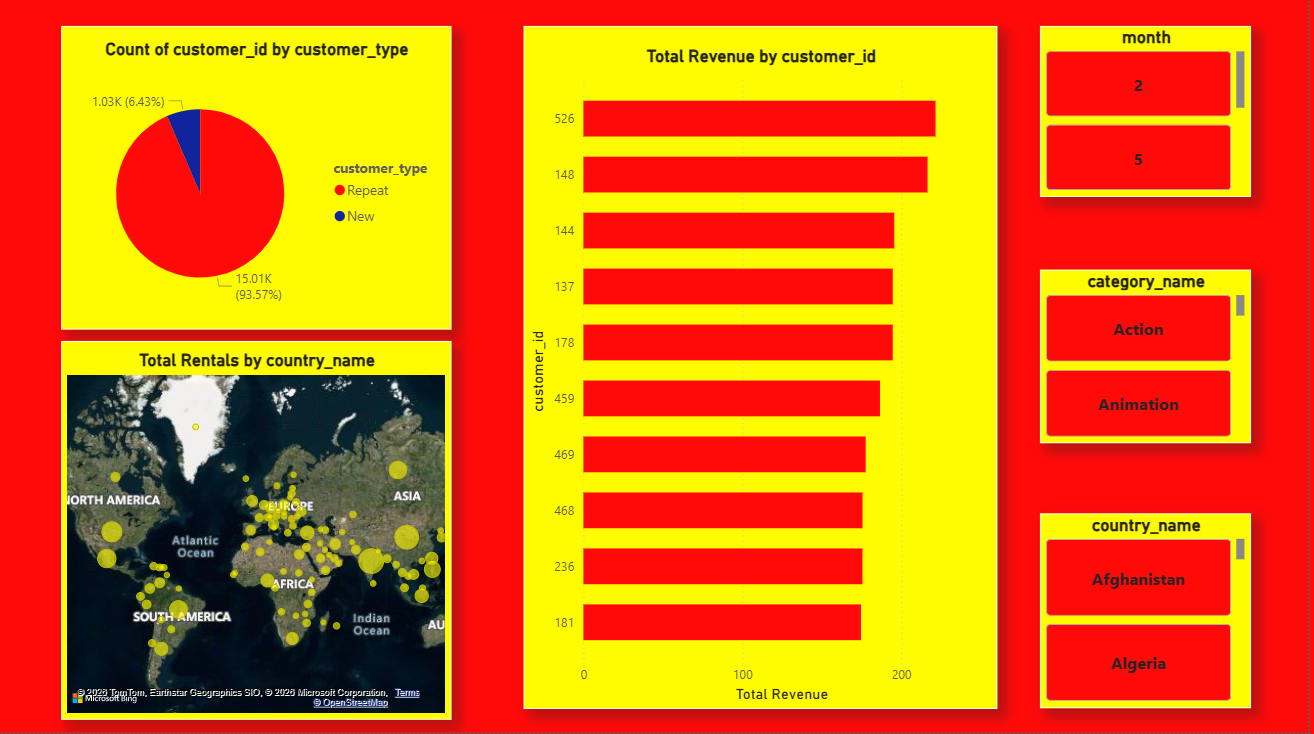

This screenshot's page, from the dashboard's own definition file:
{"tool":"powerbi","page":{"name":"Customer Analysis","canvas":[1280,720],"ordinal":2},"visuals":[{"type":"pieChart","fields":{"Category":["rental.customer_type"],"Y":["CountNonNull(rental.customer_id)"]},"box":[59.9,29.3,381.5,297.1],"z":0},{"type":"barChart","fields":{"Y":["rental.Total Revenue"],"Category":["rental.customer_id"]},"box":[512.4,29.3,463.5,667.7],"z":1000},{"type":"advancedSlicerVisual","fields":{"Values":["rental.month"]},"box":[1017.4,29.3,206.7,167.5],"z":3000},{"type":"advancedSlicerVisual","fields":{"Values":["rental.category_name"]},"box":[1017.4,267.8,206.7,170],"z":4000},{"type":"advancedSlicerVisual","fields":{"Values":["rental.country_name"]},"box":[1017.4,506.3,206.7,190.8],"z":5000},{"type":"map","fields":{"Category":["rental.country_name"],"Size":["rental.Total Rentals"]},"box":[59.9,337.5,381.5,370.5],"z":5001}]}

Visuals, with their boxes in screenshot pixels (x1, y1, x2, y2), scaled from the page's 1280x720 canvas onto the 1314x734 screenshot:
pieChart - rental.customer_type x CountNonNull(rental.customer_id): <bbox>61, 30, 453, 333</bbox>
barChart - rental.Total Revenue x rental.customer_id: <bbox>526, 30, 1002, 711</bbox>
advancedSlicerVisual - rental.month: <bbox>1044, 30, 1257, 201</bbox>
advancedSlicerVisual - rental.category_name: <bbox>1044, 273, 1257, 446</bbox>
advancedSlicerVisual - rental.country_name: <bbox>1044, 516, 1257, 711</bbox>
map - rental.country_name x rental.Total Rentals: <bbox>61, 344, 453, 722</bbox>
